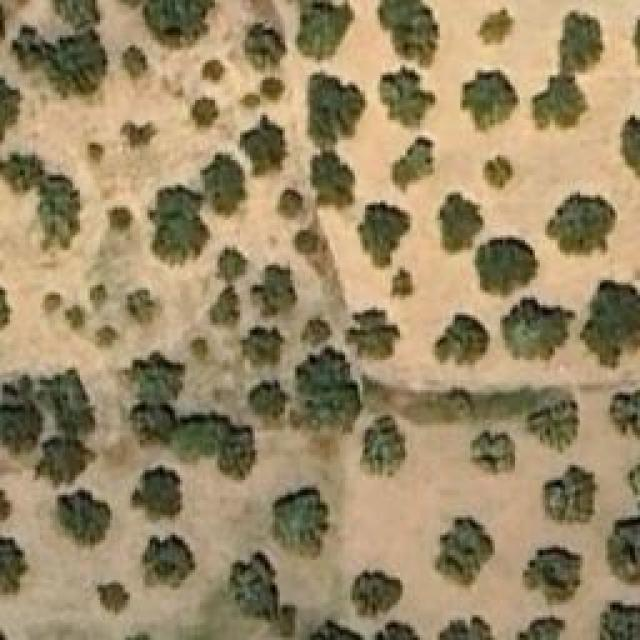Tree: (290, 345, 363, 435), (580, 280, 640, 368), (148, 185, 208, 265), (545, 195, 618, 258), (375, 0, 438, 68), (378, 65, 441, 133), (272, 488, 330, 561), (437, 517, 495, 585), (288, 0, 353, 60), (48, 32, 108, 97), (310, 73, 365, 143), (523, 545, 583, 608), (542, 460, 600, 523), (435, 313, 493, 373), (555, 10, 608, 75), (230, 548, 278, 618), (240, 115, 293, 178), (358, 203, 408, 268), (35, 173, 78, 248), (530, 73, 583, 133), (148, 0, 213, 48), (125, 353, 185, 403), (478, 240, 538, 290), (58, 488, 110, 543), (363, 415, 408, 478), (390, 135, 435, 198), (523, 300, 573, 355), (250, 265, 298, 320), (132, 465, 180, 520), (313, 150, 358, 208), (203, 153, 246, 213), (348, 310, 401, 358), (463, 73, 508, 128), (173, 418, 228, 463), (145, 532, 195, 580), (440, 193, 483, 248), (0, 400, 42, 455), (607, 515, 640, 585), (353, 570, 403, 615), (37, 438, 85, 481), (237, 328, 285, 371), (533, 403, 578, 446), (133, 405, 178, 448), (0, 152, 42, 197), (607, 385, 640, 442), (10, 22, 50, 69), (243, 25, 286, 68), (0, 538, 30, 598), (0, 75, 25, 145), (220, 428, 255, 478), (473, 433, 516, 473), (247, 378, 285, 421), (600, 600, 640, 640), (475, 10, 520, 45), (215, 243, 253, 283), (210, 280, 240, 330), (240, 78, 285, 111), (435, 390, 473, 428), (53, 0, 101, 29), (310, 617, 370, 640), (518, 615, 568, 640), (443, 615, 493, 640), (365, 620, 425, 640), (622, 110, 640, 175), (123, 290, 156, 325), (300, 313, 333, 348), (483, 158, 516, 191), (98, 583, 131, 613), (290, 230, 319, 264), (390, 265, 418, 300), (120, 45, 148, 78), (273, 188, 298, 222), (193, 97, 218, 125), (200, 60, 228, 83), (125, 125, 153, 145), (65, 305, 88, 328), (43, 290, 63, 315), (95, 325, 115, 350), (88, 285, 108, 308), (110, 208, 130, 228), (87, 142, 105, 160)
